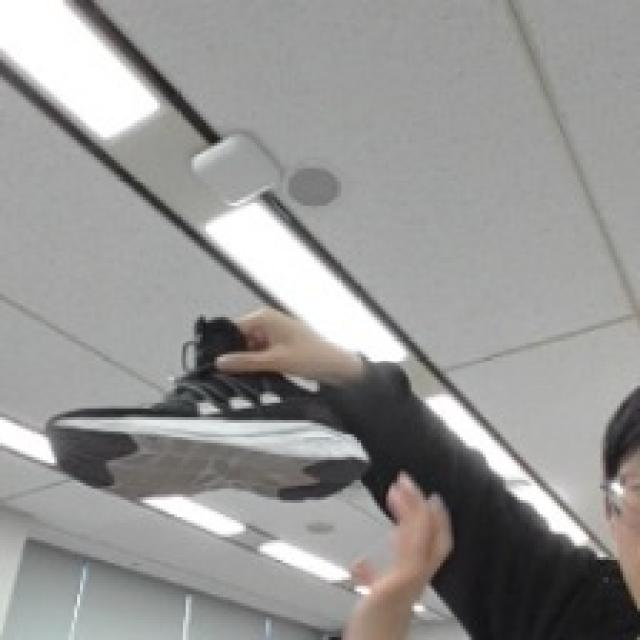shoe: (60, 286, 392, 542)
